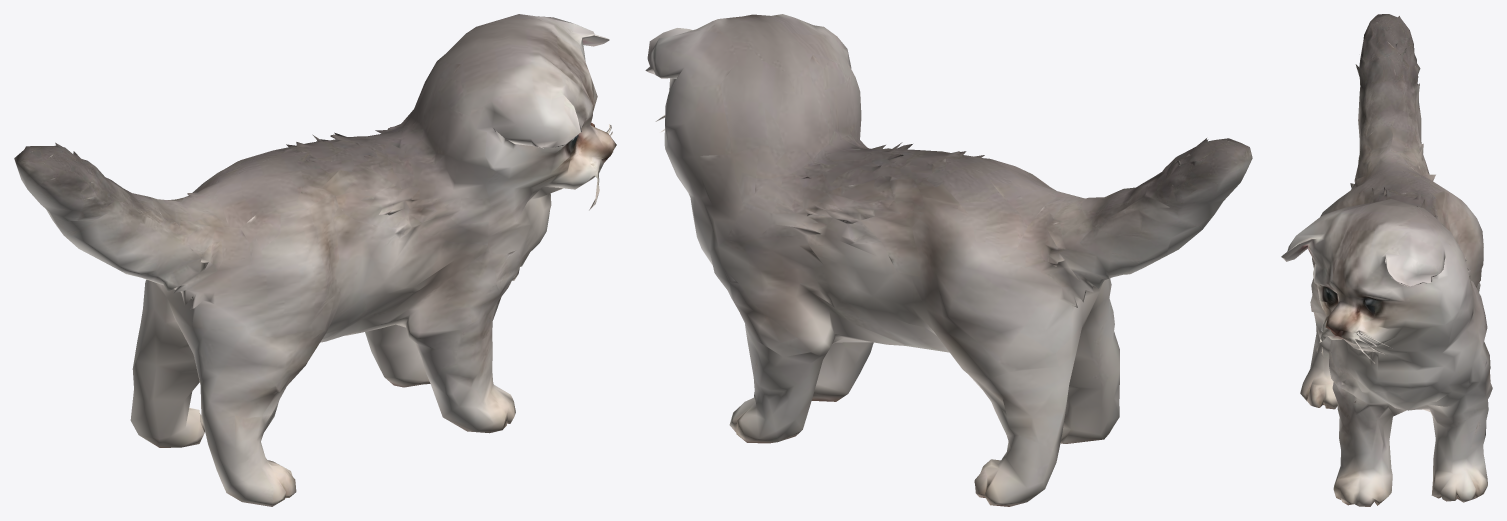
File: LIDNAP-lo.glb
3 views of the same model, side by side, from view 1: azimuth 30°, elevation 25°; view 2: azimuth 150°, elevation 25°; view 3: azimuth 270°, elevation 25° (orthographic). The views are drawn at different scales.
Visible parts, largest first — view 1: tripo_node_76b8484e-7f94-49e8-b8c3-2b4c036ffd32; view 2: tripo_node_76b8484e-7f94-49e8-b8c3-2b4c036ffd32; view 3: tripo_node_76b8484e-7f94-49e8-b8c3-2b4c036ffd32.
Boxes of the visible parts, x1,y1,x2,y2 form: tripo_node_76b8484e-7f94-49e8-b8c3-2b4c036ffd32: (14,14,616,506); tripo_node_76b8484e-7f94-49e8-b8c3-2b4c036ffd32: (645,14,1252,506); tripo_node_76b8484e-7f94-49e8-b8c3-2b4c036ffd32: (1281,14,1492,506).
Bounding box in the file's own units: 1.67 × 1 × 0.6165.
Materials: 1 (1 with a texture image).
